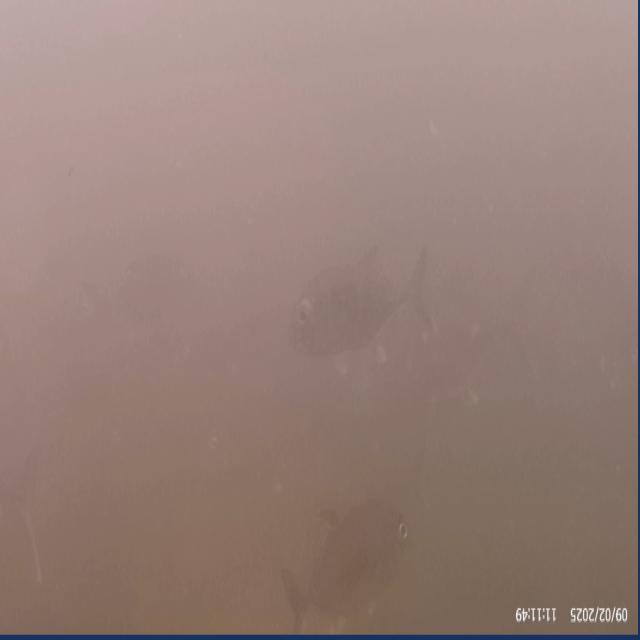ikan: (280, 494, 408, 633), (287, 238, 432, 360)
